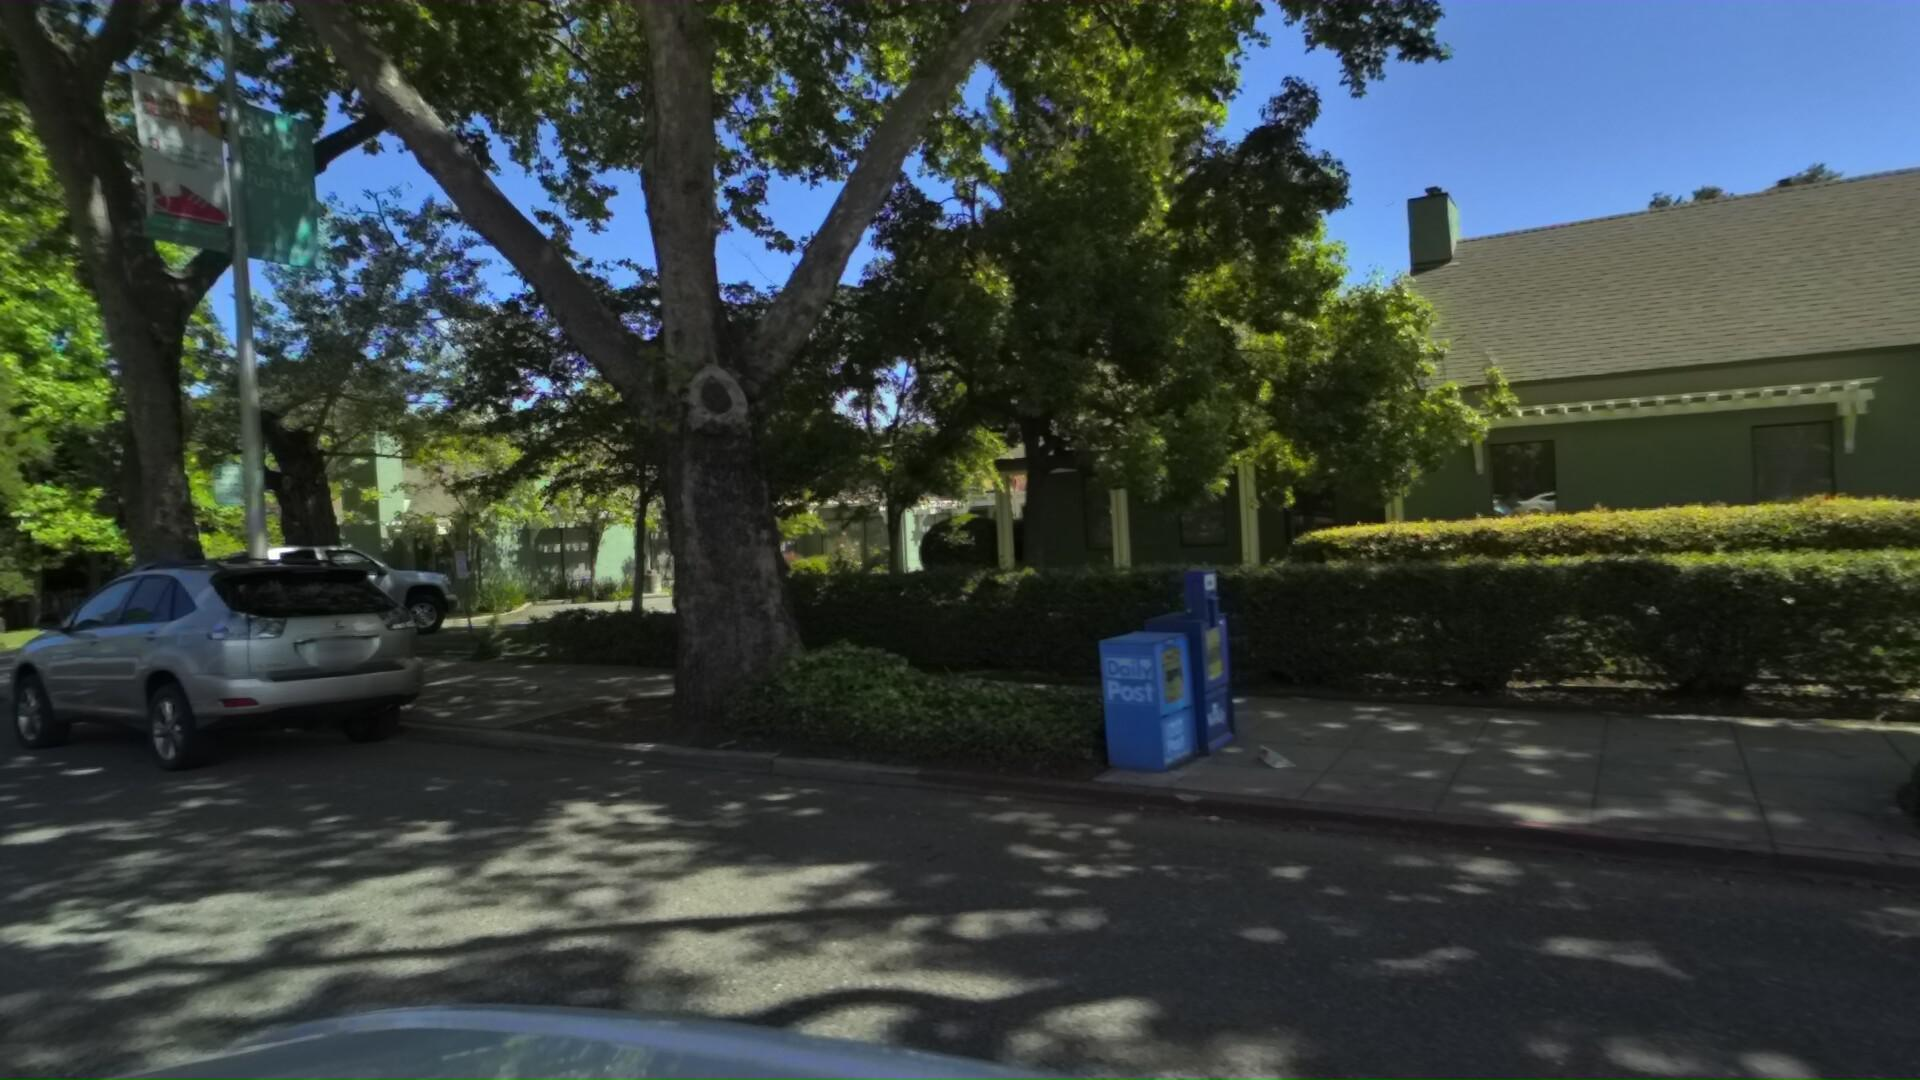car: (0, 534, 489, 799), (98, 522, 491, 673)
